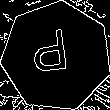P_S: (35, 29, 78, 84)
